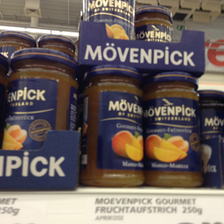jam: (3, 47, 78, 151), (81, 66, 145, 186), (144, 71, 205, 186)
